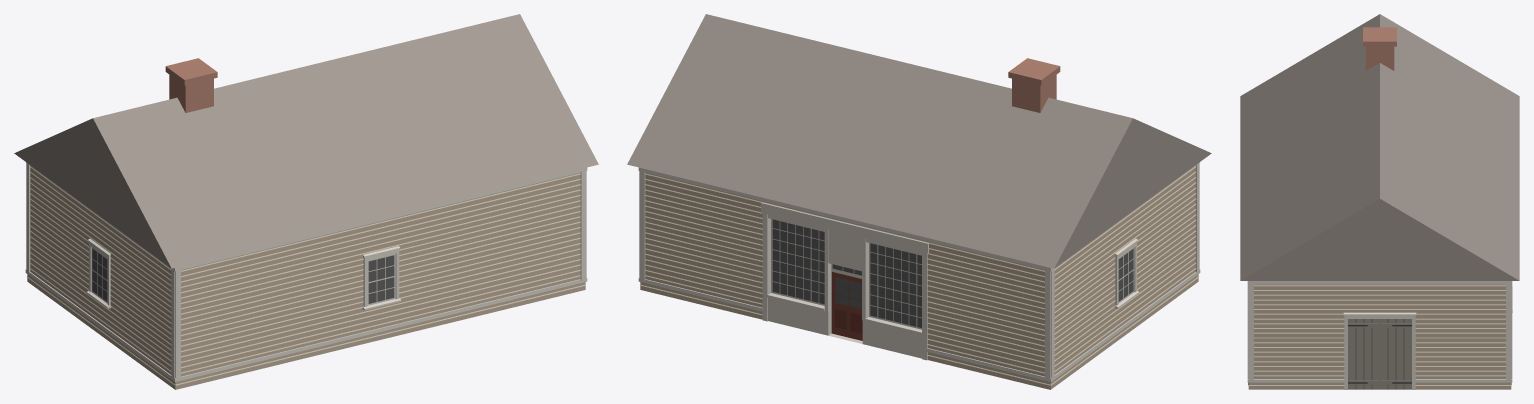
File: h_jones_store__frame_1833.glb
3 renders of one model, left to right at view 1: azimuth 30°, elevation 25°; view 2: azimuth 150°, elevation 25°; view 3: azimuth 270°, elevation 25°, orthographic. The views are drawn at different scales.
Visible parts, largest first — view 1: h_jones_store__frame_1833; view 2: h_jones_store__frame_1833; view 3: h_jones_store__frame_1833.
Part boxes in pixels (x1,y1,x2,y2): h_jones_store__frame_1833: (14, 14, 598, 389); h_jones_store__frame_1833: (627, 14, 1211, 389); h_jones_store__frame_1833: (1240, 14, 1519, 389).
Size of the model in its own units: 12.69 by 6.95 by 8.12.
